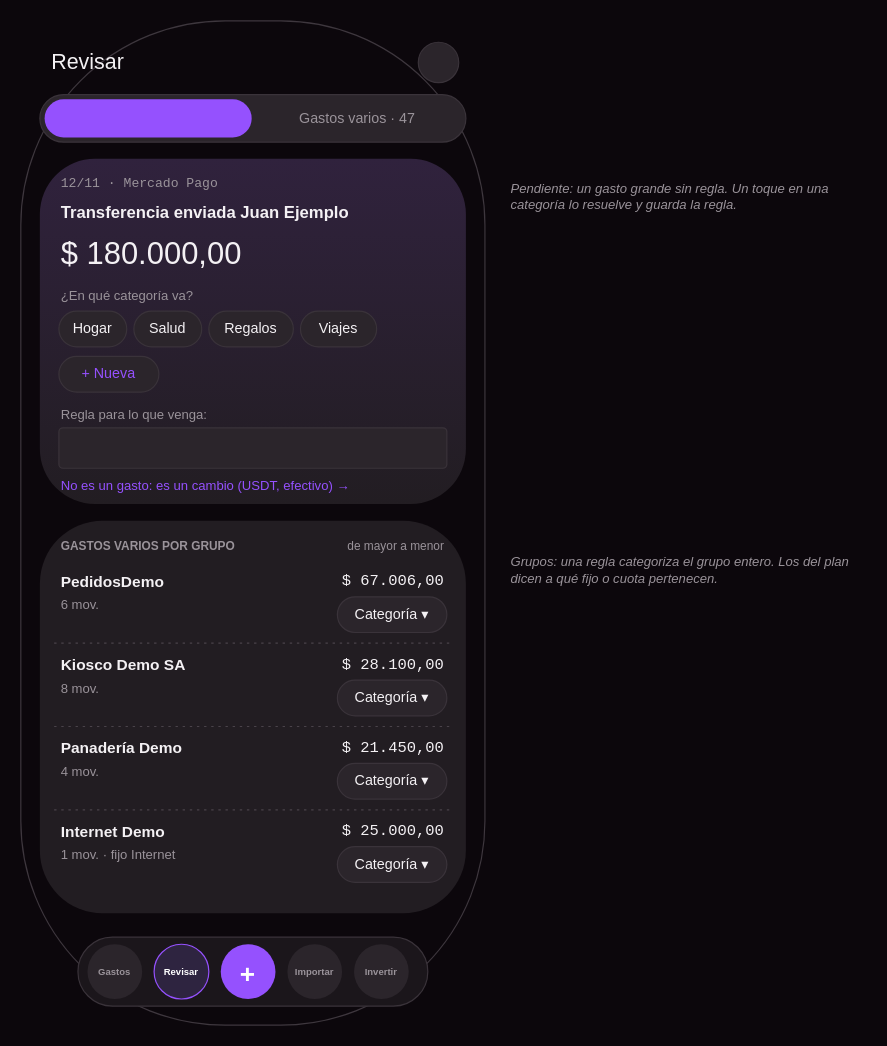
Some shapes in this 887 by 1046 pixel diagram are drawn without their labels. Here are the shapes that lost their labels. From the top down, the centre of each, then its label:
[438,62]: Yo
[147,118]: Pendientes · 2
[252,447]: Juan Ejemplo
